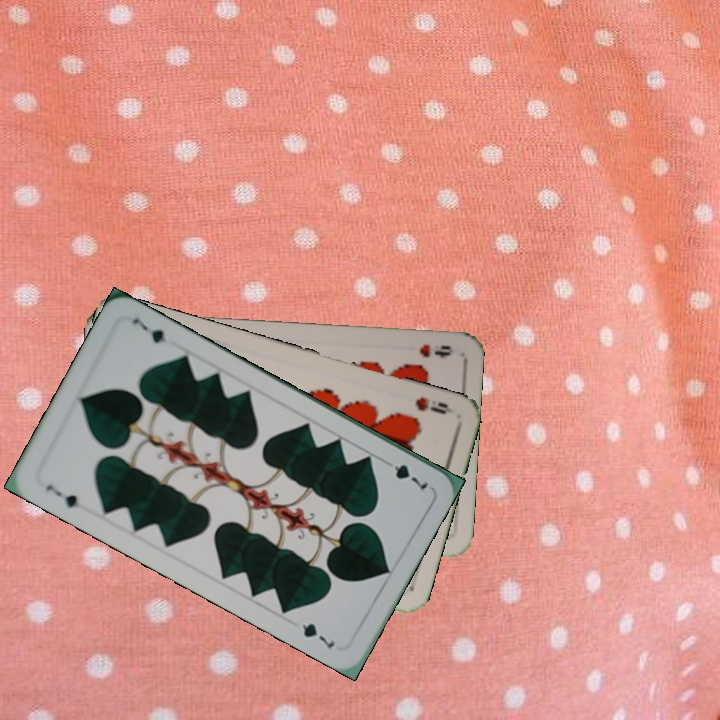G7: (378, 456, 431, 494), (41, 480, 82, 511)
H9: (411, 392, 456, 417), (416, 340, 456, 360)
